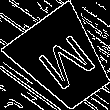M_SE: (27, 26, 98, 95)
